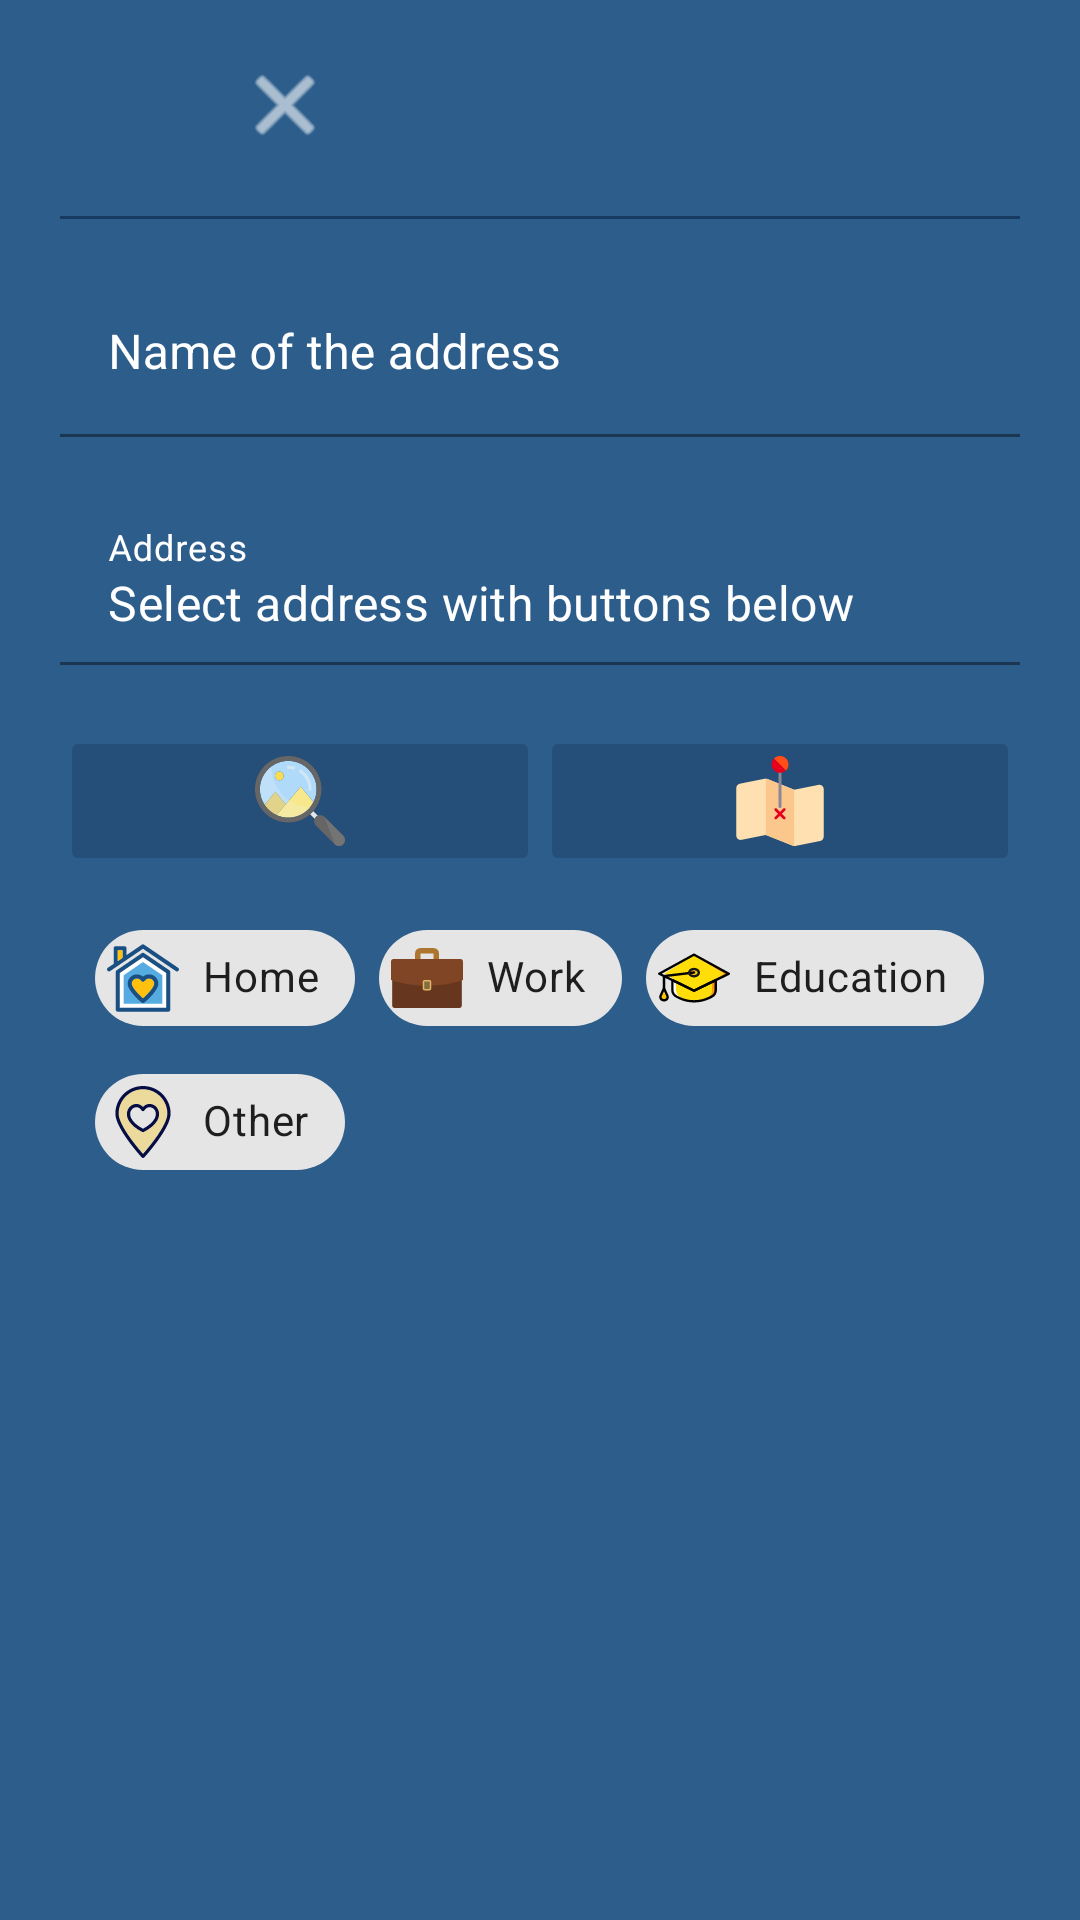

Screen size 1080px×1920px. Icon name, then its box in pixels as (x1, y1, x2, y2):
close clear cancel: (255, 75, 315, 135)
map pick: (736, 756, 824, 846)
